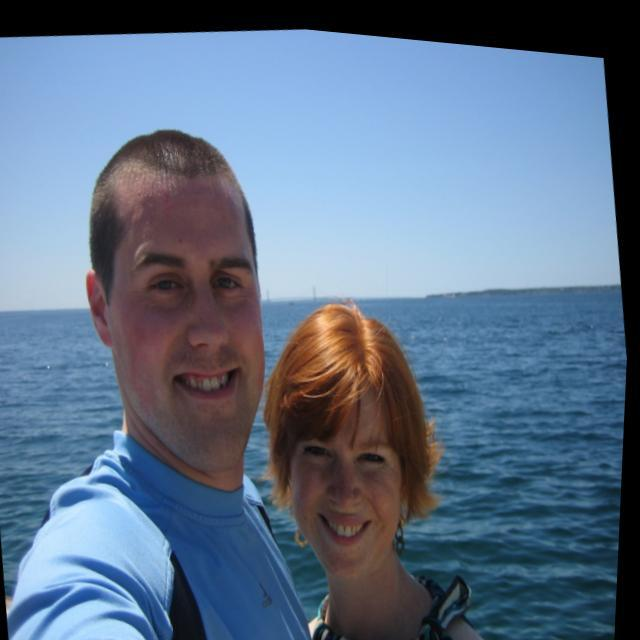Nonhelmet: (83, 126, 269, 469), (258, 285, 447, 587)
